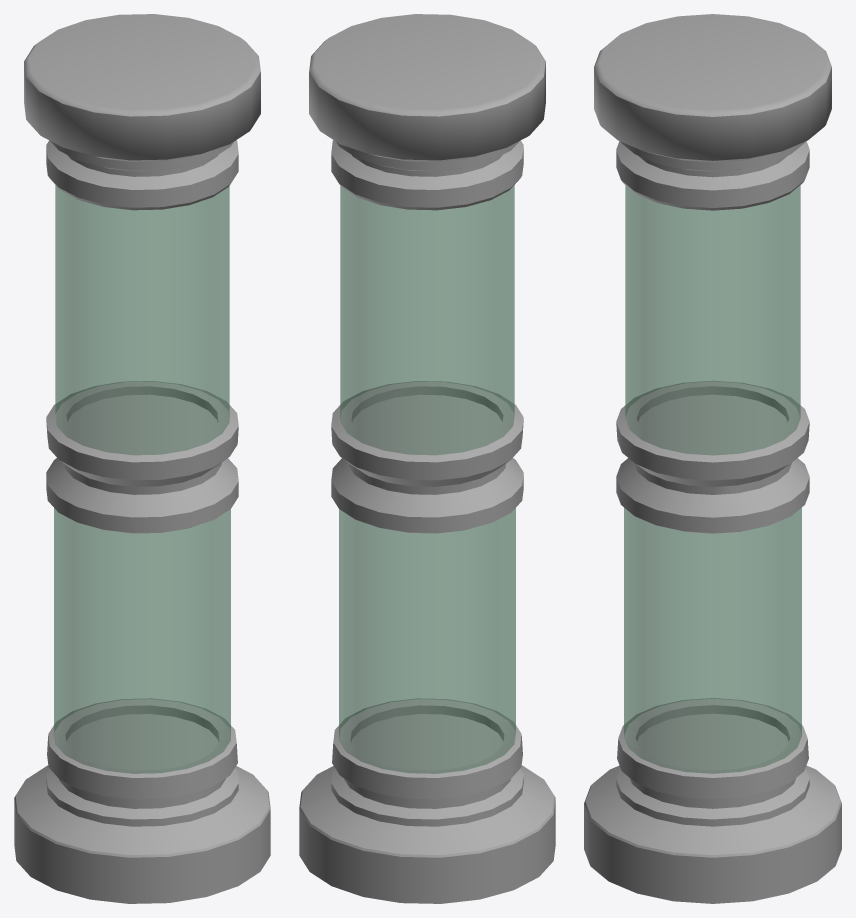
Rendered from Tube_Tall.fbx.
3 renders of one model, left to right at view 1: azimuth 30°, elevation 25°; view 2: azimuth 150°, elevation 25°; view 3: azimuth 270°, elevation 25°, orthographic.
Parts seen in each view (by area): view 1: Tube_Large; view 2: Tube_Large; view 3: Tube_Large.
Part boxes in pixels (left/top/right/bottom): Tube_Large: left=14, top=14, right=270, bottom=903; Tube_Large: left=299, top=14, right=555, bottom=903; Tube_Large: left=584, top=14, right=841, bottom=903.
Size of the model in its own units: 3.58 by 12.05 by 3.58.
